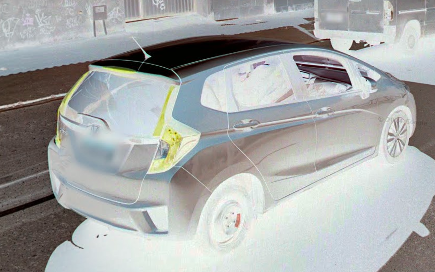car: (47, 38, 418, 252)
